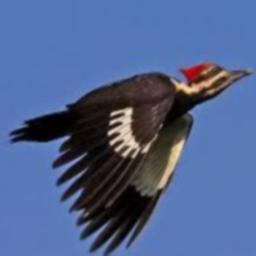Woodpecker: (8, 62, 253, 256)
